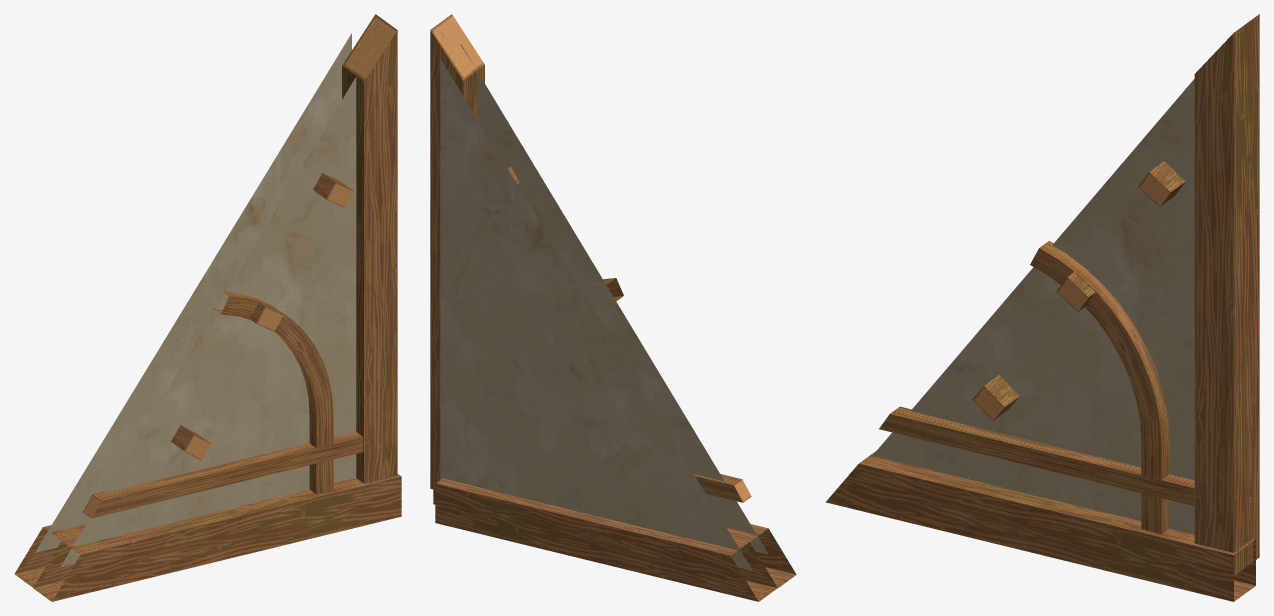
Rendered from Roof_Front_Brick4_Half_L.gltf.
3 renders of one model, left to right at view 1: azimuth 30°, elevation 25°; view 2: azimuth 150°, elevation 25°; view 3: azimuth 330°, elevation 25°, orthographic. The views are drawn at different scales.
Visible parts, largest first — view 1: Roof_Front_Brick4_Half_L; view 2: Roof_Front_Brick4_Half_L; view 3: Roof_Front_Brick4_Half_L.
Boxes of the visible parts, bbox=[...] form: Roof_Front_Brick4_Half_L: bbox=[14, 14, 401, 601]; Roof_Front_Brick4_Half_L: bbox=[430, 14, 796, 601]; Roof_Front_Brick4_Half_L: bbox=[826, 14, 1259, 601].
Size of the model in its own units: 2.41 by 3.2 by 0.4896.
2 materials, 2 textured.
